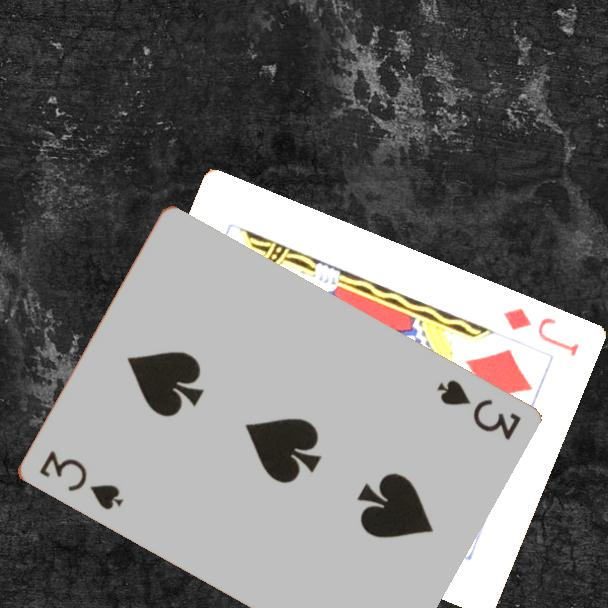d11: (499, 304, 581, 359)
s03: (433, 376, 524, 444), (35, 447, 126, 514)
